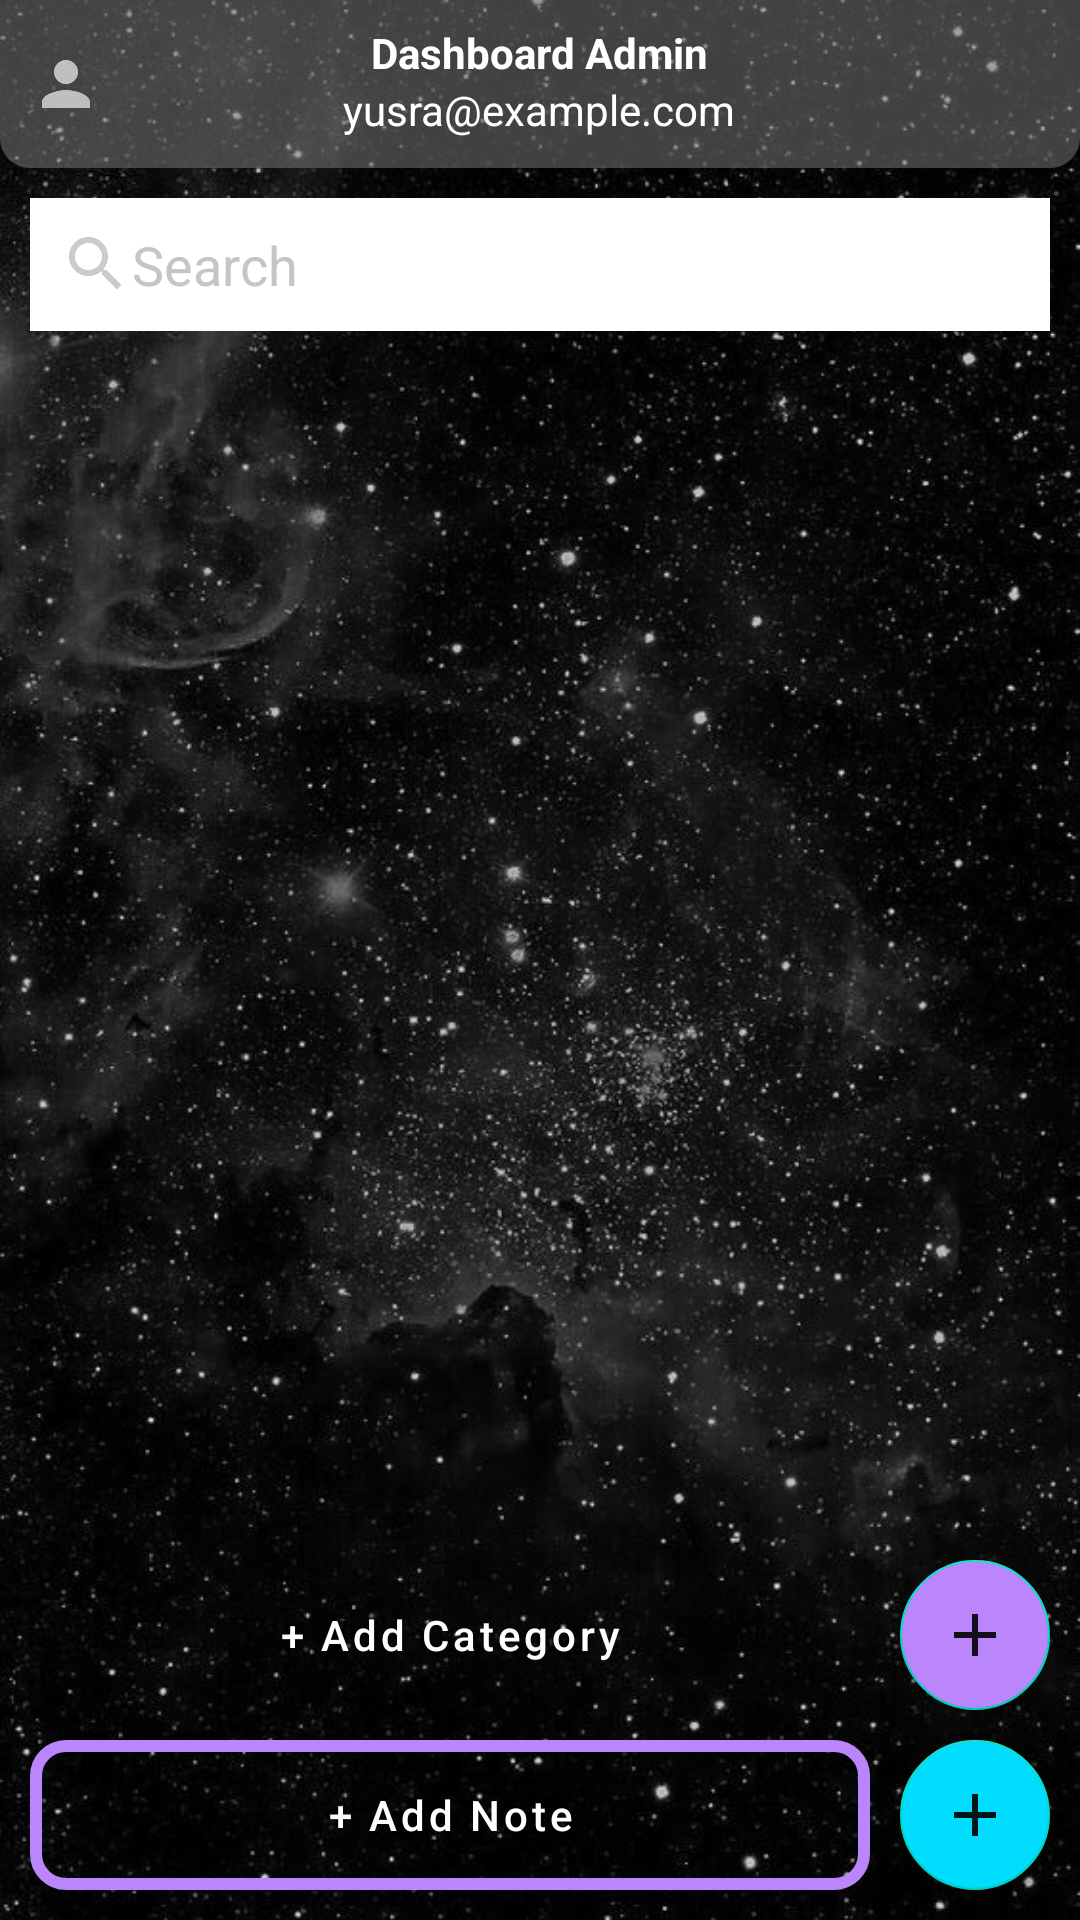

Named icons in this screenshot (1080*1920) and their bounding boxes, (x1, y1, x2, y2):
person: (30, 60, 96, 117)
